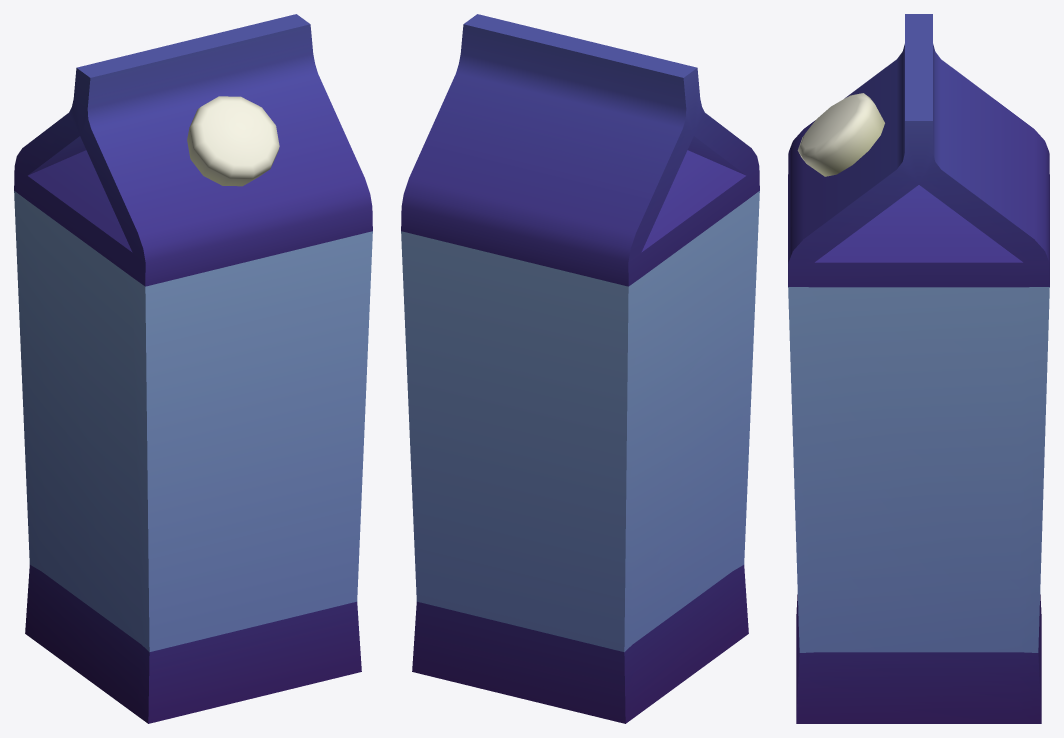
Rendered from Carton_03.glb.
3 views of the same model, side by side, from view 1: azimuth 30°, elevation 25°; view 2: azimuth 150°, elevation 25°; view 3: azimuth 270°, elevation 25° (orthographic).
Visible parts, largest first — view 1: Carton_03; view 2: Carton_03; view 3: Carton_03.
Boxes of the visible parts, left/top/right/bottom form: Carton_03: left=14, top=14, right=372, bottom=723; Carton_03: left=401, top=14, right=759, bottom=723; Carton_03: left=788, top=14, right=1049, bottom=723.
Size of the model in its own units: 0.2628 by 0.6682 by 0.2622.
1 material, 1 textured.
